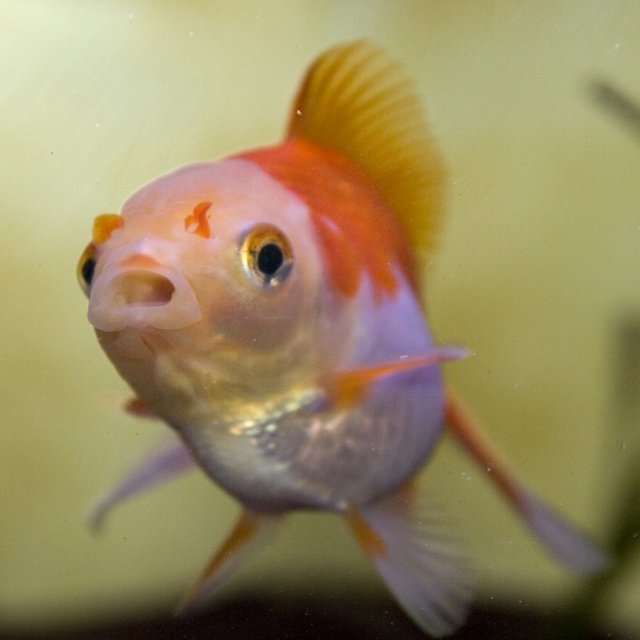Goldfish: (47, 25, 531, 640)
